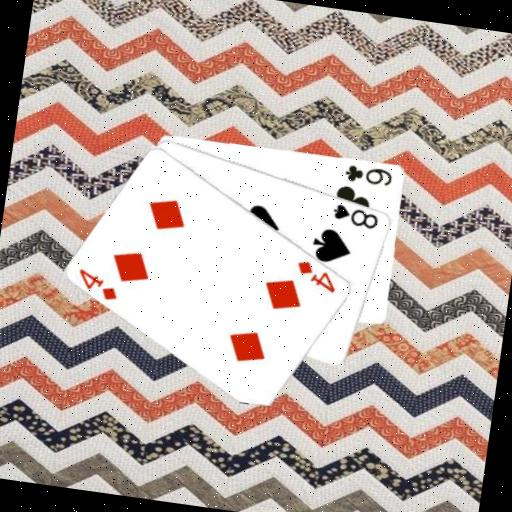4D: (292, 256, 342, 295), (73, 265, 123, 304)
6C: (343, 161, 396, 189)
8S: (328, 200, 382, 232)
